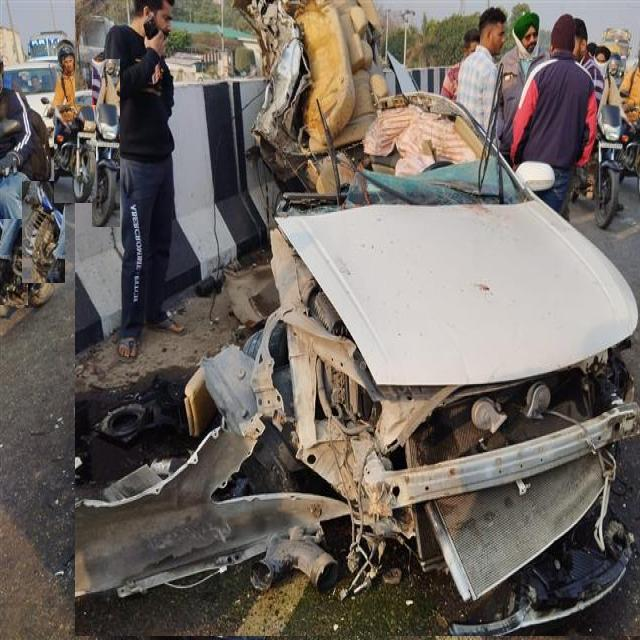accident: (75, 0, 640, 636)
car: (5, 62, 59, 127)
motorcycle: (92, 60, 120, 227), (22, 182, 65, 283), (54, 105, 96, 203), (0, 220, 28, 305)
